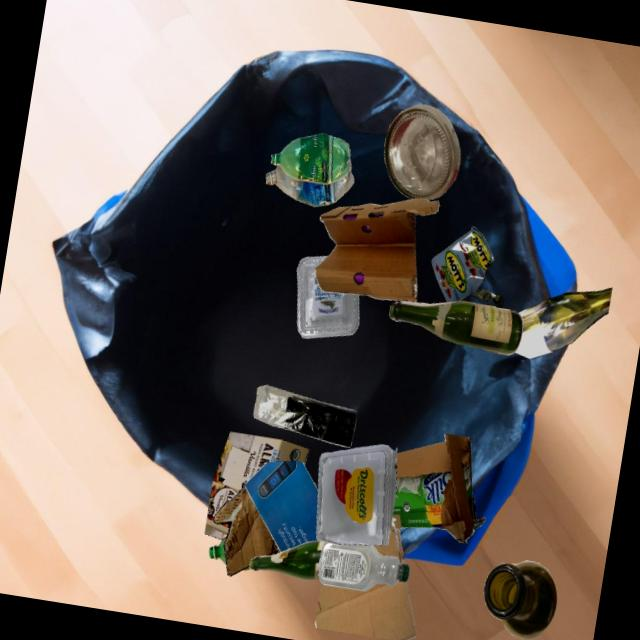cardboard: (315, 199, 439, 303), (204, 432, 310, 541), (391, 433, 486, 543), (213, 481, 278, 576), (315, 581, 416, 640)
glass: (389, 301, 523, 355), (384, 105, 460, 200), (514, 288, 612, 359), (484, 560, 557, 640), (249, 541, 325, 580)
paper: (245, 461, 318, 552)
plastic: (316, 445, 397, 546), (253, 385, 357, 448), (297, 256, 359, 338), (319, 542, 410, 591), (266, 159, 354, 207), (271, 133, 350, 185), (225, 556, 272, 570), (209, 540, 225, 559)
trash: (431, 226, 504, 308)
